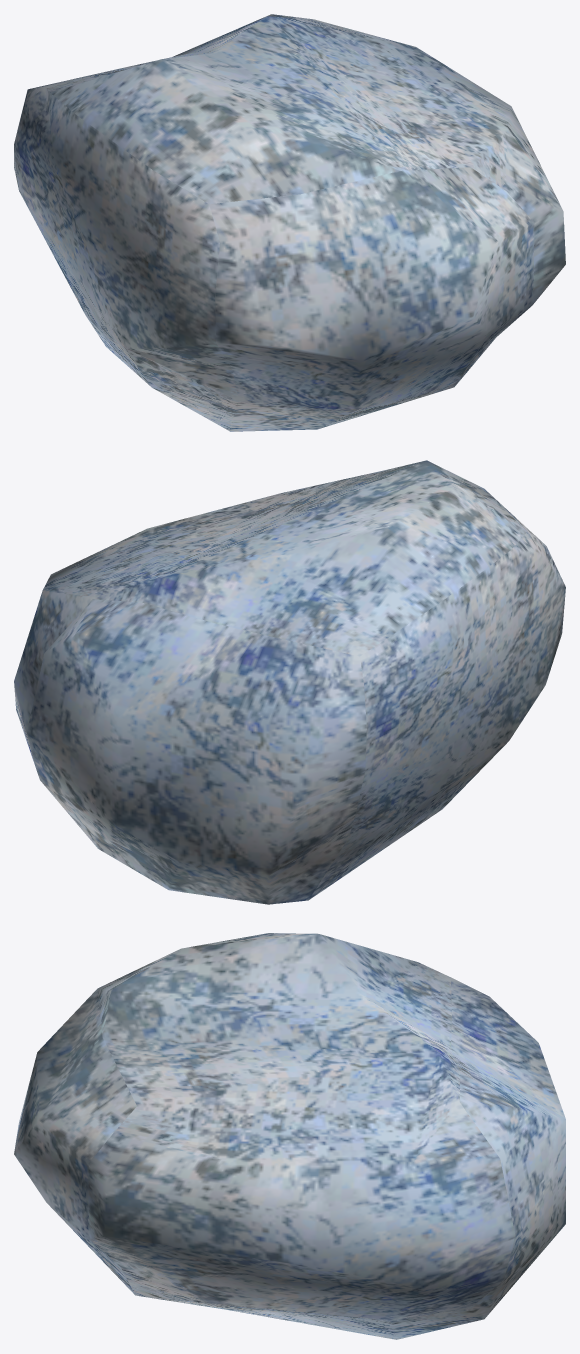
Rendered from asteroid_ice_medium_s02_l2.fbx.
The picture shows the model from 3 angles, top to bottom: view 1: azimuth 30°, elevation 25°; view 2: azimuth 150°, elevation 25°; view 3: azimuth 270°, elevation 25°; orthographic projection. The views are drawn at different scales.
Visible parts, largest first — view 1: mesh_node; view 2: mesh_node; view 3: mesh_node.
Part boxes in pixels (x1=…): mesh_node: x1=14, y1=14, x2=565, y2=431; mesh_node: x1=14, y1=460, x2=565, y2=904; mesh_node: x1=14, y1=933, x2=565, y2=1339.
Bounding box in the file's own units: 63.38 × 53.13 × 74.55.
